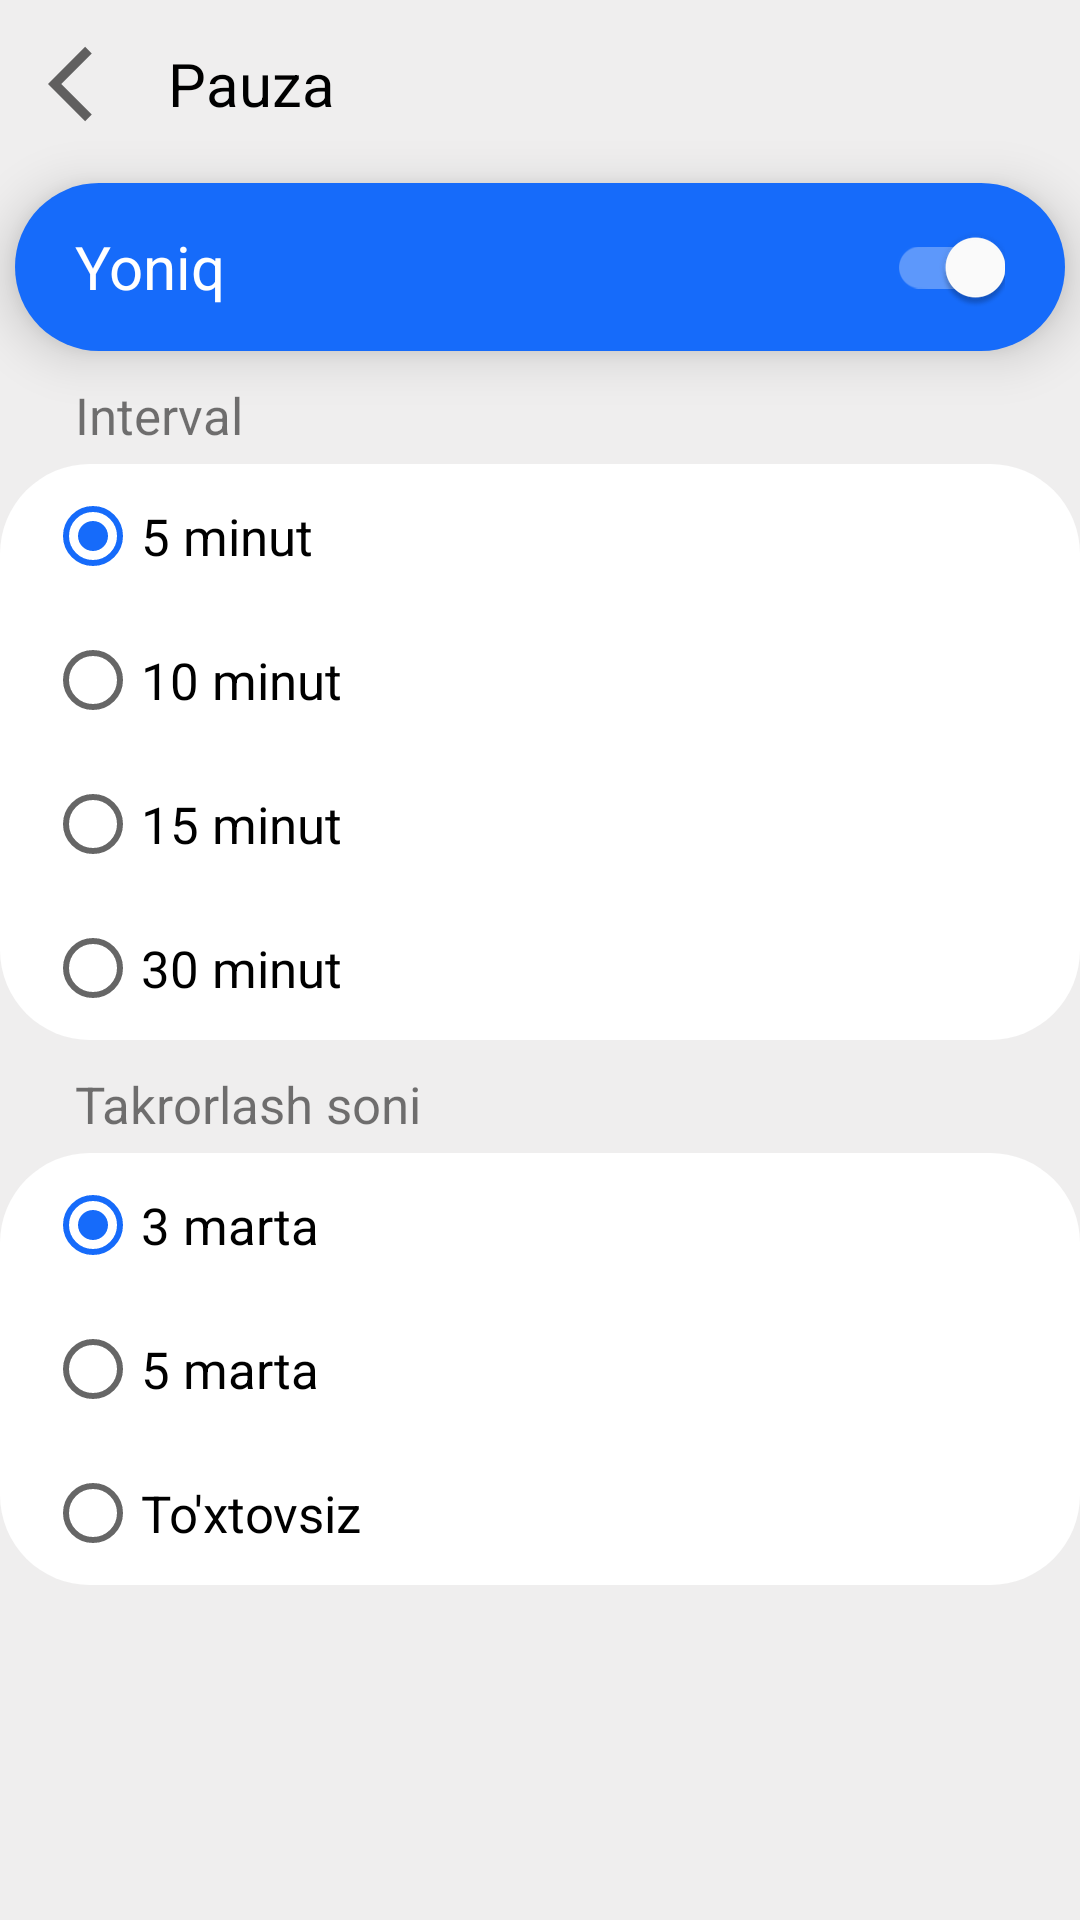

Where to tap for icons on this 1080w x 1920h app screen, as point (x, y):
back arrow: point (70, 84)
